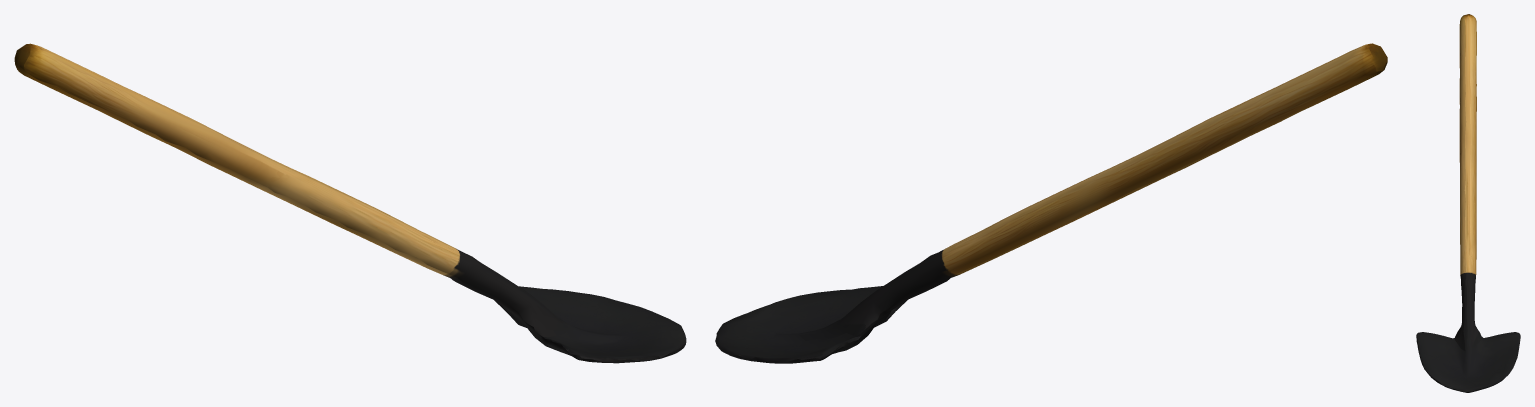
File: pelle_3D.glb
The picture shows the model from 3 angles, left to right: view 1: azimuth 30°, elevation 25°; view 2: azimuth 150°, elevation 25°; view 3: azimuth 270°, elevation 25°; orthographic projection. The views are drawn at different scales.
Visible parts, largest first — view 1: temp_mesh.ply; view 2: temp_mesh.ply; view 3: temp_mesh.ply.
Boxes of the visible parts, <box> form: temp_mesh.ply: <box>14,43,686,363</box>; temp_mesh.ply: <box>715,43,1387,363</box>; temp_mesh.ply: <box>1416,14,1520,392</box>.
Size of the model in its own units: 1.98 by 1.27 by 0.5387.
Materials: 1 (1 with a texture image).
